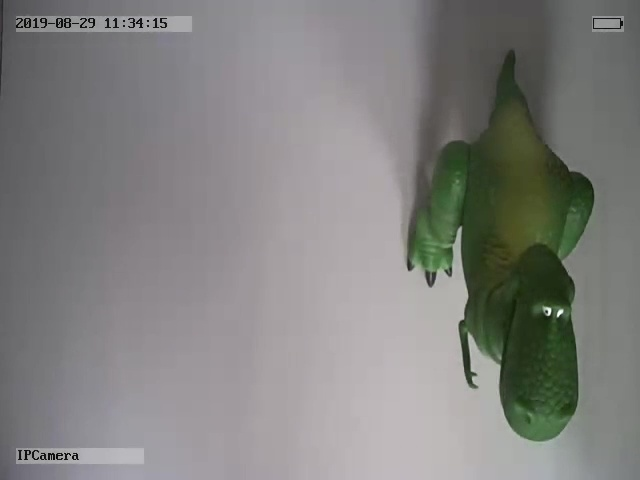rex: (406, 49, 595, 443)
